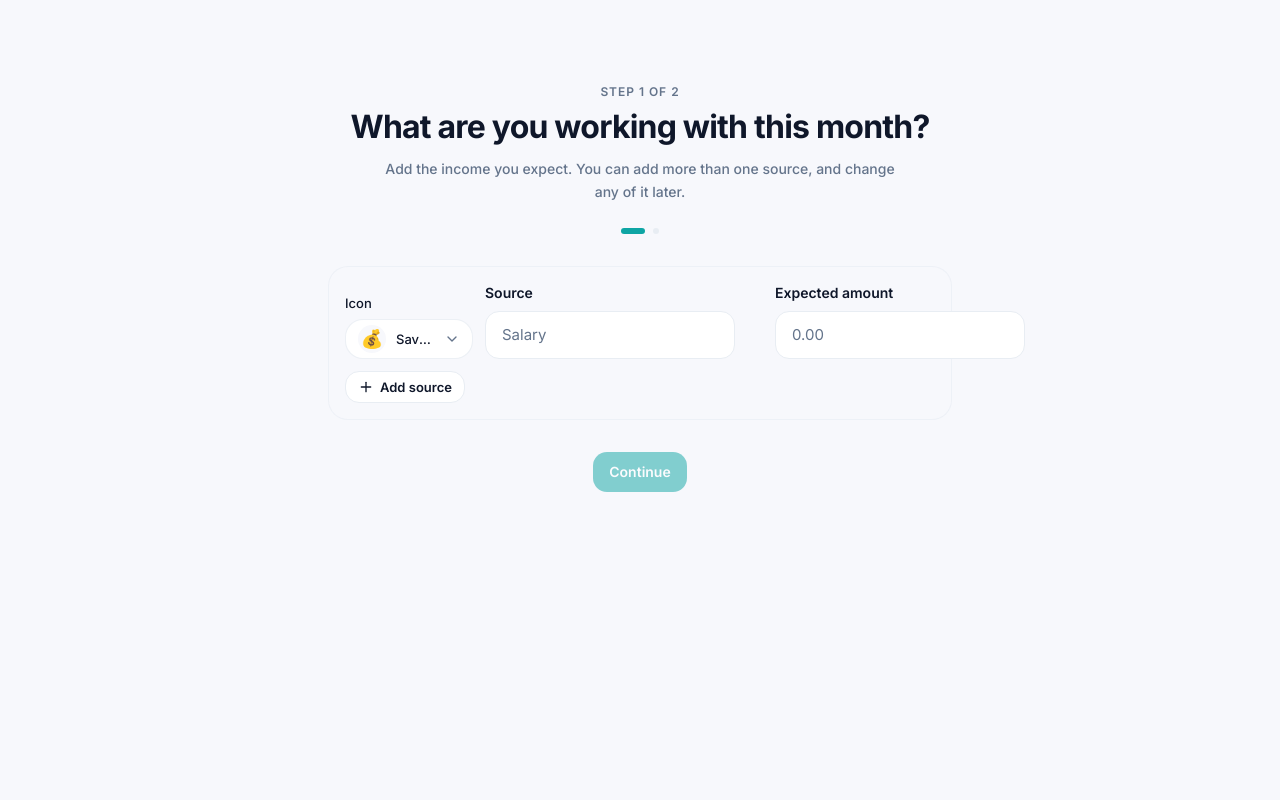
Test: guided setup: income step › blocks Continue until a non-zero source exists, with inline validation
What coordinates should you click on to do the following:
click the button "Continue"
I would click on:
 (640, 472)
Its box is [593,452,687,492].
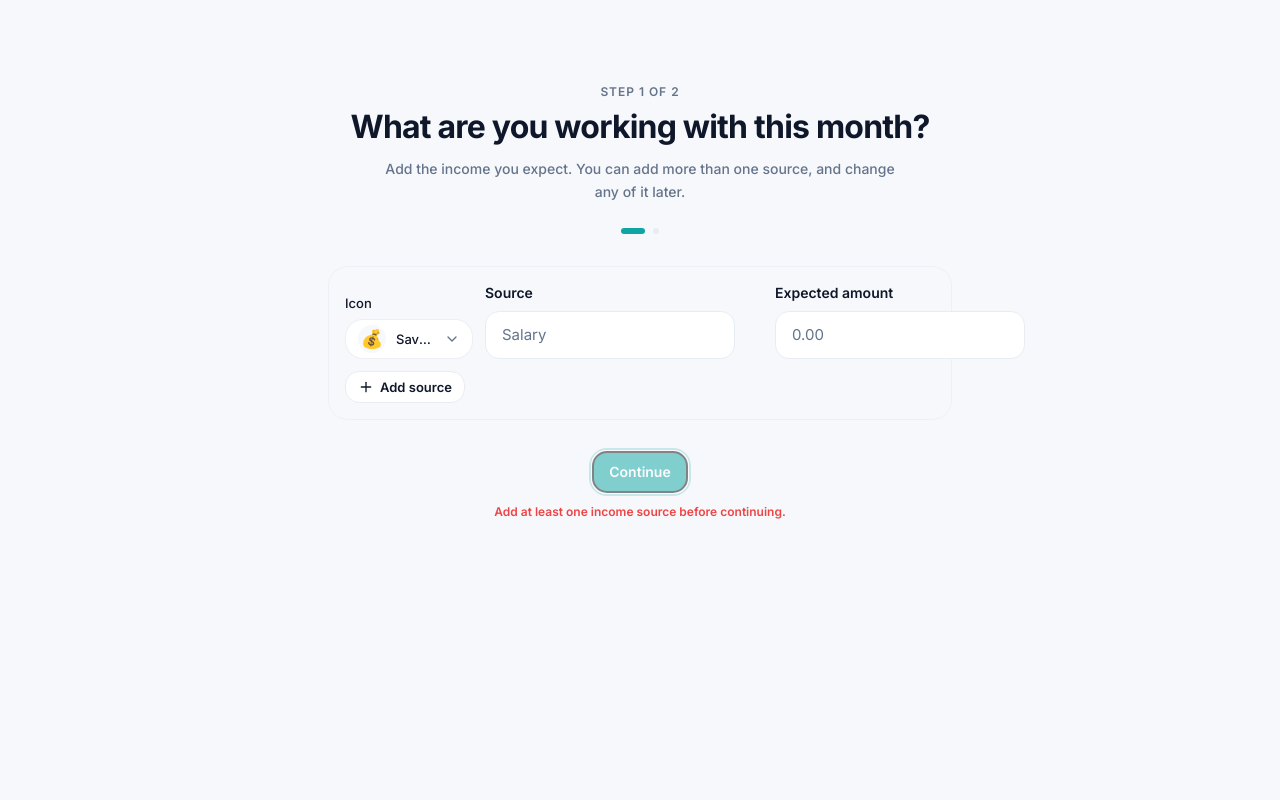
Expected: the message shows "at least one income source", [494,504,786,518]
